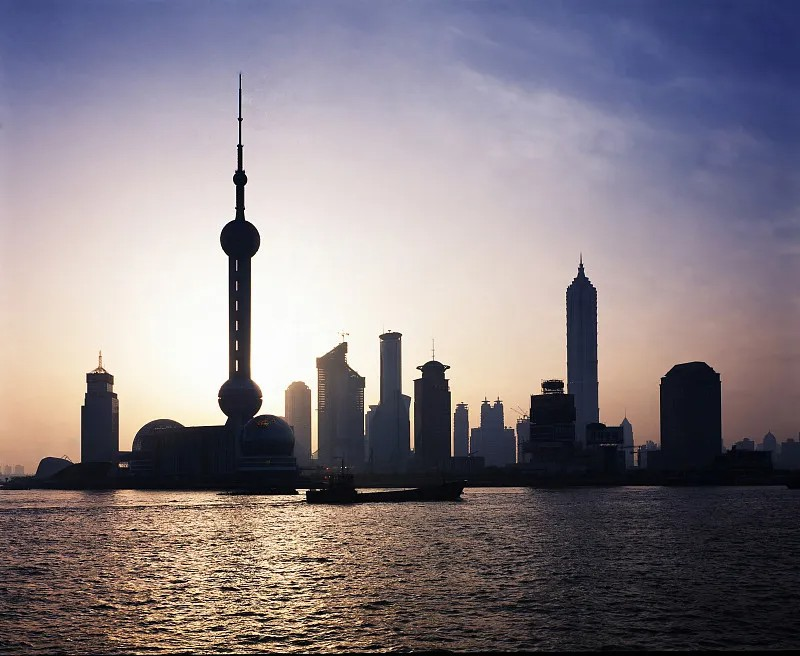Oriental: (218, 74, 262, 425)
